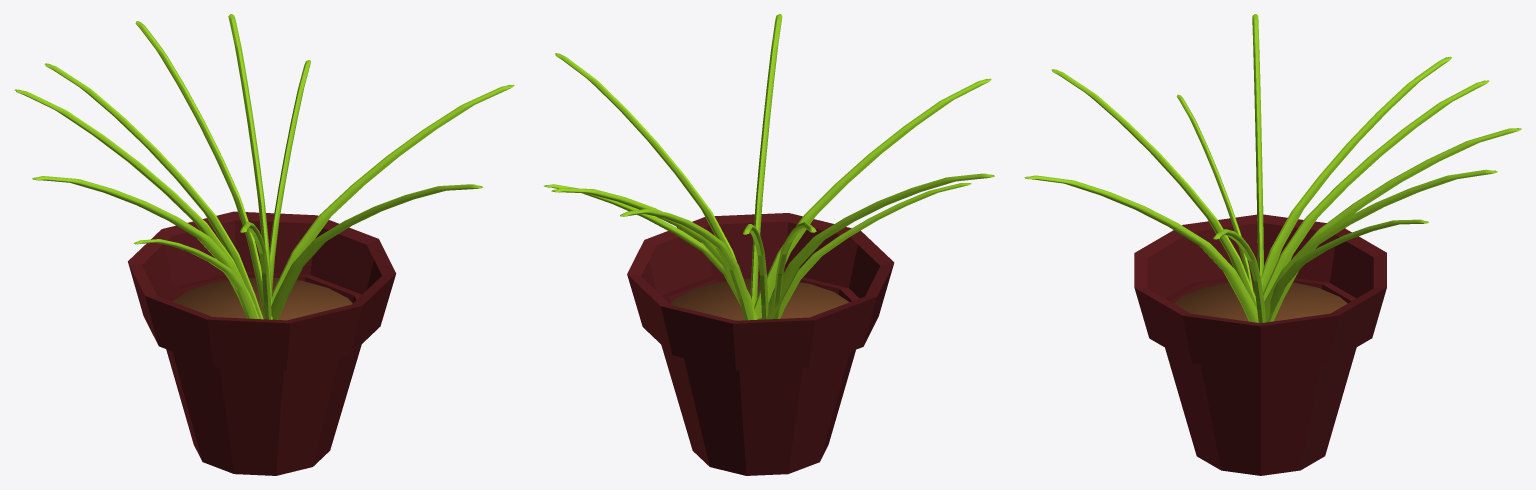
File: Plant1.fbx
The picture shows the model from 3 angles, left to right: view 1: azimuth 30°, elevation 25°; view 2: azimuth 150°, elevation 25°; view 3: azimuth 270°, elevation 25°; orthographic projection.
Parts seen in each view (by area): view 1: Pot, dirt, nurbsToPoly5, nurbsToPoly2, nurbsToPoly8, nurbsToPoly1, nurbsToPoly9, nurbsToPoly6, nurbsToPoly4, nurbsToPoly10, nurbsToPoly7, nurbsToPoly3; view 2: Pot, dirt, nurbsToPoly3, nurbsToPoly6, nurbsToPoly8, nurbsToPoly5, nurbsToPoly1, nurbsToPoly7, nurbsToPoly4, nurbsToPoly10, nurbsToPoly2, nurbsToPoly9; view 3: Pot, dirt, nurbsToPoly2, nurbsToPoly9, nurbsToPoly8, nurbsToPoly3, nurbsToPoly4, nurbsToPoly1, nurbsToPoly6, nurbsToPoly10, nurbsToPoly7, nurbsToPoly5.
Boxes of the visible parts, x1,y1,x2,y2 form: Pot: (128, 211, 396, 475); dirt: (172, 277, 352, 320); nurbsToPoly5: (263, 84, 514, 316); nurbsToPoly2: (44, 63, 263, 319); nurbsToPoly8: (271, 184, 483, 319); nurbsToPoly1: (135, 21, 264, 315); nurbsToPoly9: (14, 89, 259, 318); nurbsToPoly6: (32, 176, 255, 317); nurbsToPoly4: (228, 14, 272, 319); nurbsToPoly10: (263, 60, 310, 317); nurbsToPoly7: (134, 239, 254, 318); nurbsToPoly3: (240, 222, 271, 319); Pot: (627, 213, 894, 475); dirt: (670, 278, 849, 320); nurbsToPoly3: (754, 78, 991, 318); nurbsToPoly6: (761, 173, 994, 319); nurbsToPoly8: (750, 14, 782, 305); nurbsToPoly5: (555, 53, 755, 319); nurbsToPoly1: (620, 208, 753, 320); nurbsToPoly7: (778, 183, 971, 318); nurbsToPoly4: (551, 188, 754, 309); nurbsToPoly10: (544, 184, 757, 319); nurbsToPoly2: (743, 224, 768, 319); nurbsToPoly9: (774, 222, 816, 318); Pot: (1134, 214, 1386, 475); dirt: (1174, 280, 1347, 321); nurbsToPoly2: (1263, 80, 1489, 300); nurbsToPoly9: (1246, 56, 1451, 317); nurbsToPoly8: (1024, 175, 1258, 322); nurbsToPoly3: (1051, 69, 1257, 309); nurbsToPoly4: (1264, 169, 1497, 322); nurbsToPoly1: (1270, 128, 1521, 321); nurbsToPoly6: (1252, 14, 1264, 292); nurbsToPoly10: (1267, 219, 1428, 322); nurbsToPoly7: (1176, 94, 1253, 291); nurbsToPoly5: (1213, 229, 1265, 323).
Bounding box in the file's own units: 545 × 369 × 517.
